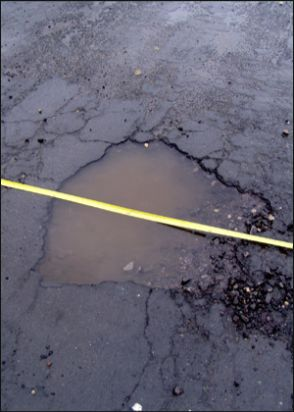pothole: (33, 124, 274, 305)
